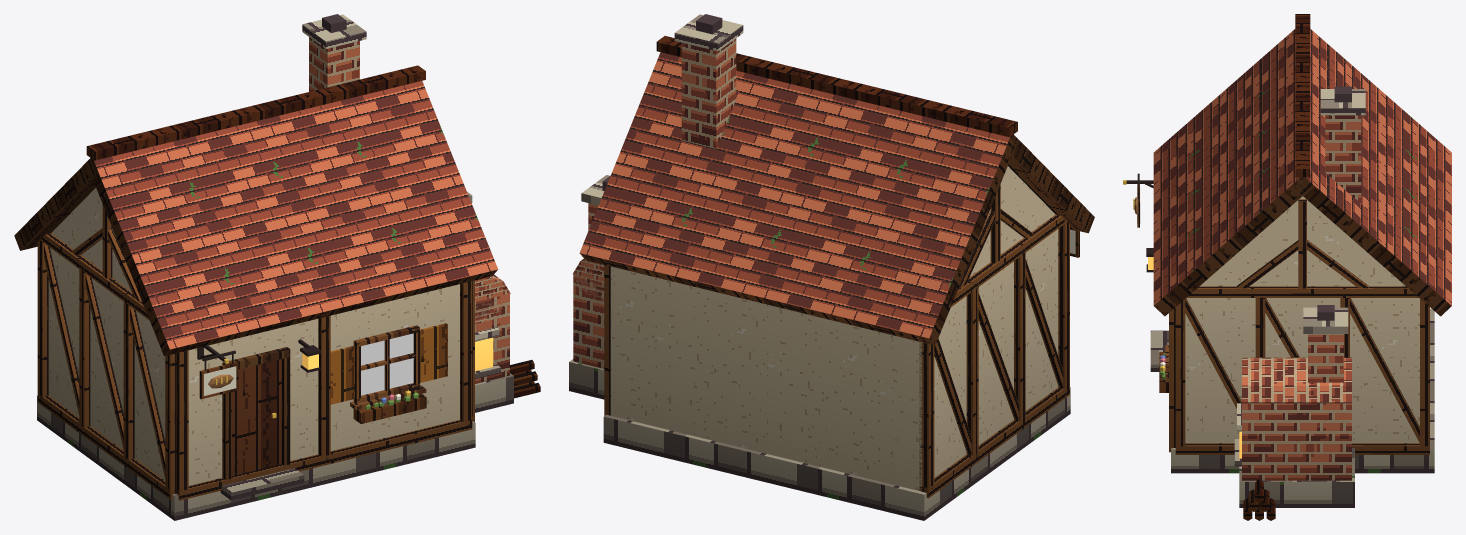
Rendered from bakery.glb.
The picture shows the model from 3 angles, left to right: view 1: azimuth 30°, elevation 25°; view 2: azimuth 150°, elevation 25°; view 3: azimuth 270°, elevation 25°; orthographic projection. The views are drawn at different scales.
Parts seen in each view (by area): view 1: bakery; view 2: bakery; view 3: bakery.
Boxes of the visible parts, x1,y1,x2,y2 form: bakery: [14, 14, 540, 520]; bakery: [569, 14, 1094, 520]; bakery: [1123, 14, 1451, 520].
Size of the model in its own units: 8.02 by 6.86 by 5.69.
Materials: 8 (5 with a texture image).
